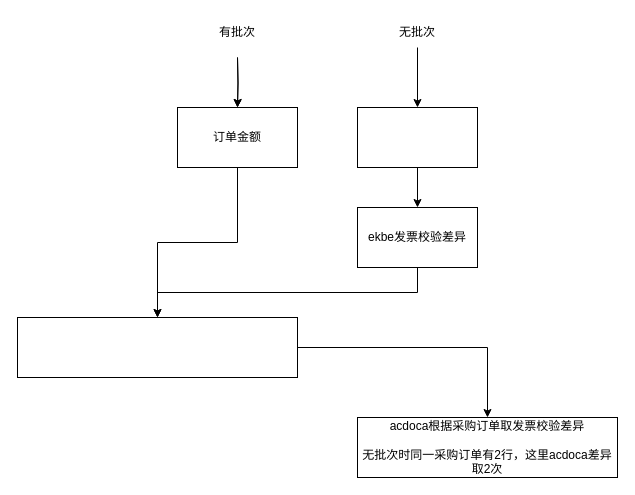
Some shapes in this 635 by 495 pixel diagram are drawn without their labels. The shapes that lost their labels are listed below. From the top down, each one's centre as x and y in pixels, then its label:
point (417, 137): 发票金额 无批次
point (157, 347): 有批次时只有采购订单一行金额为采购订单金额 无批次时采购订单有2行一行为采购订单金额 一行为发票校验差异金额
